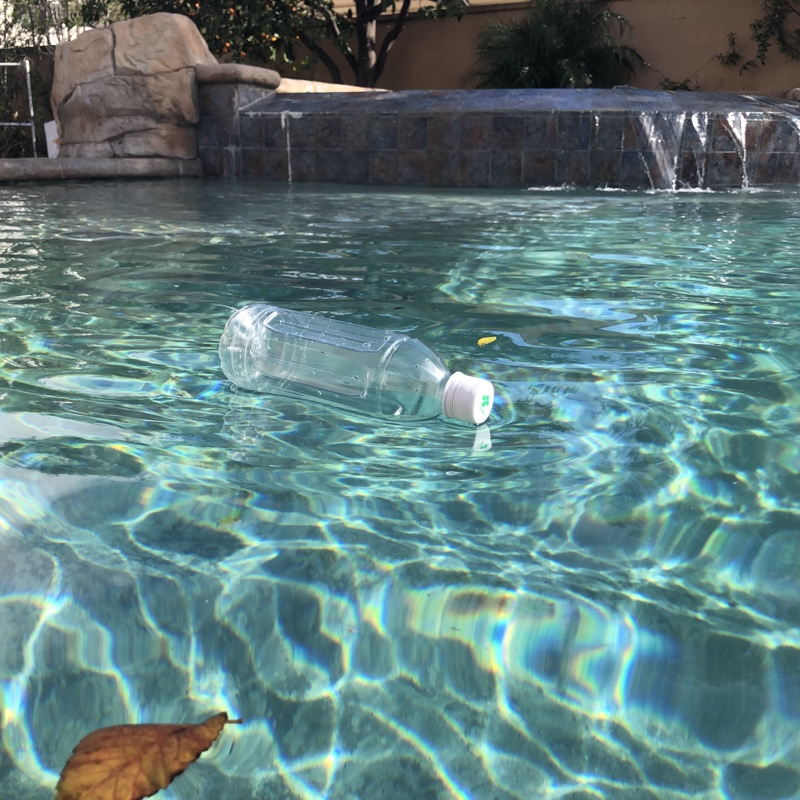Plastic Bottle: (214, 295, 496, 435)
